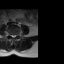CCS_normal: (12, 34, 14, 40)
LFS_normal: (16, 33, 17, 37)
LLS_stenosis: (14, 33, 16, 38)
RFS_normal: (10, 33, 11, 37)
RLS_normal: (11, 33, 12, 38)
